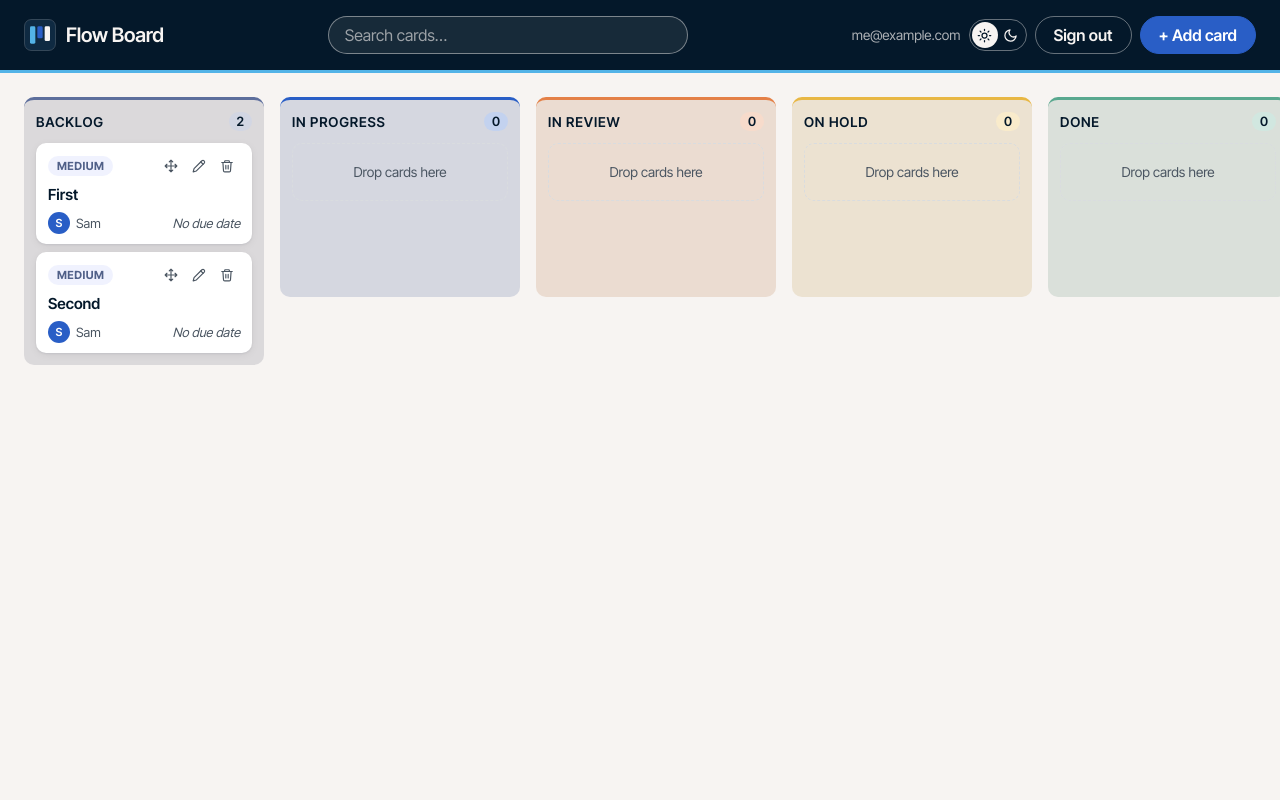
Board: deleting cards (Undo toast) › a second delete finalises the first
What coordinates should you click on to do the following:
click the button named "Delete First"
I would click on:
 (227, 166)
Its box is [214,153,240,179].
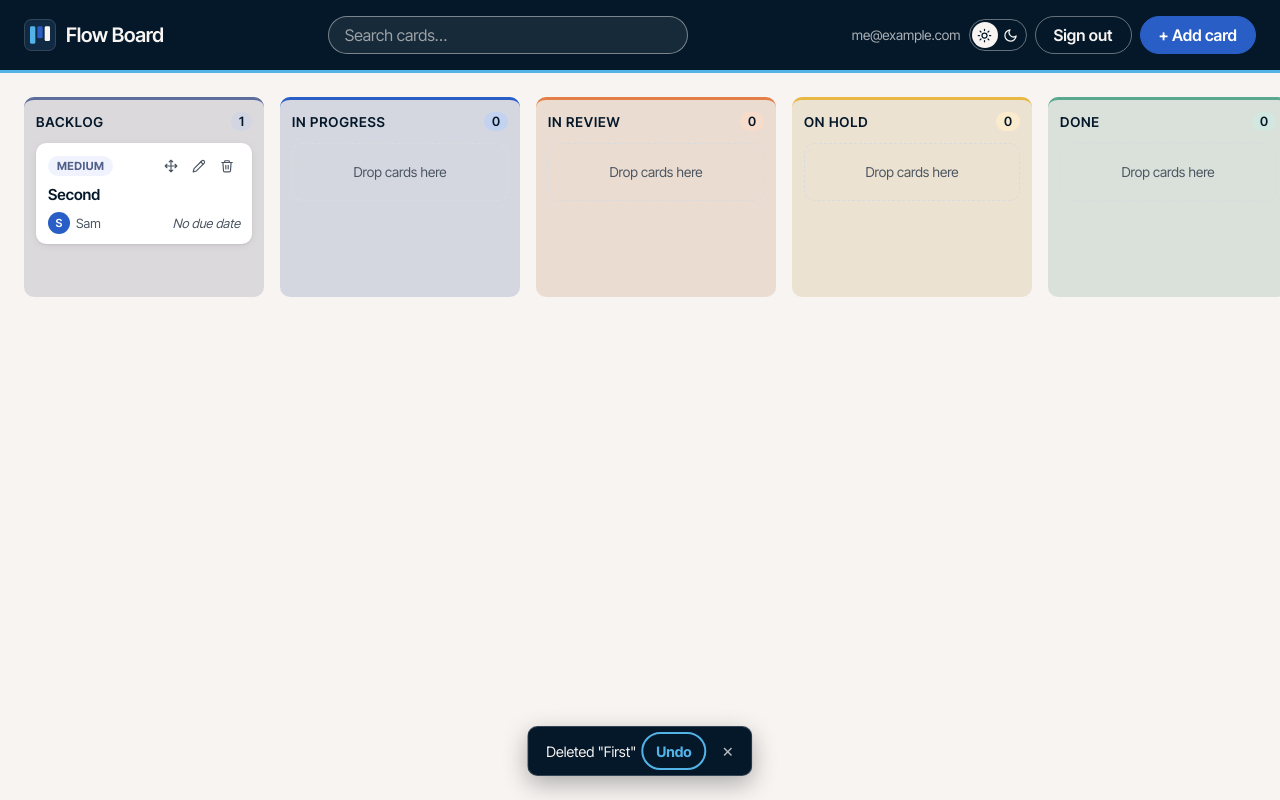
What coordinates should you click on to do the following:
click the button named "Delete Second"
I would click on:
 (227, 166)
Its box is [214,153,240,179].
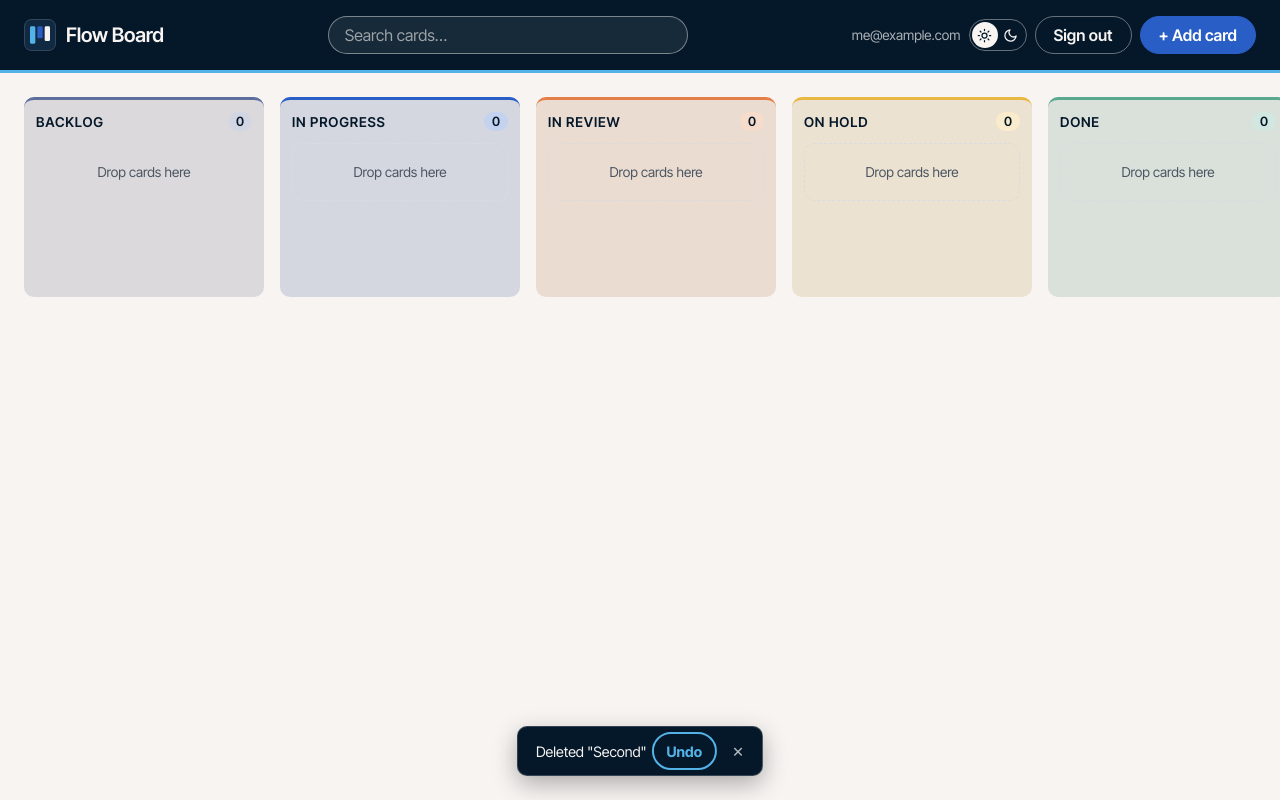
Expected: the message shows "Deleted \"Second\"", [536,742,646,760]
